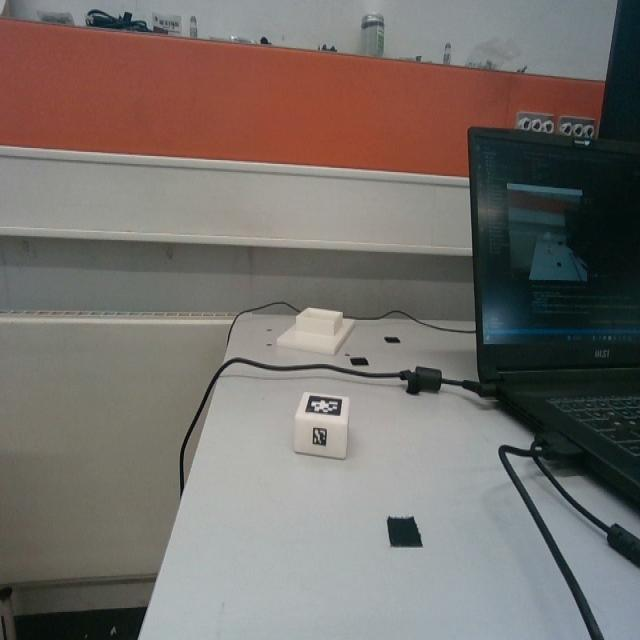Cube: (293, 392, 351, 460)
